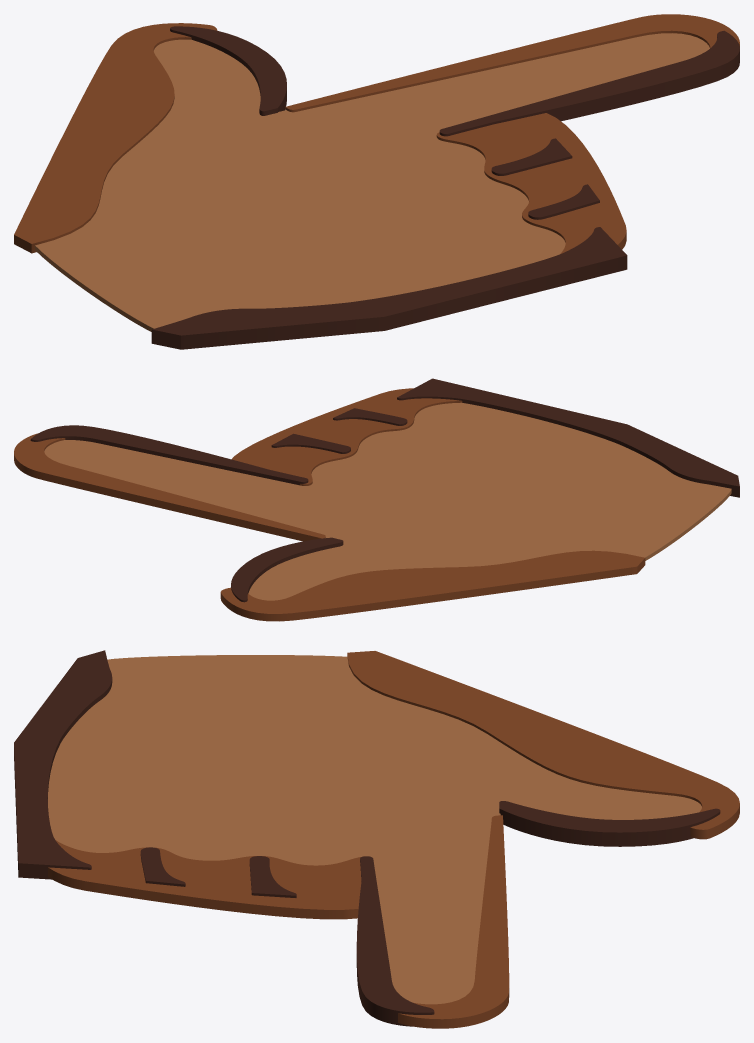
The model's file is emoji_u1f449_1f3fe.glb.
3 views of the same model, one above another, from view 1: azimuth 30°, elevation 25°; view 2: azimuth 150°, elevation 25°; view 3: azimuth 270°, elevation 25° (orthographic). The views are drawn at different scales.
Parts seen in each view (by area): view 1: emoji_u1f449_1f3fe; view 2: emoji_u1f449_1f3fe; view 3: emoji_u1f449_1f3fe.
Part boxes in pixels (<box>): emoji_u1f449_1f3fe: <box>14,14,739,349</box>; emoji_u1f449_1f3fe: <box>14,378,739,621</box>; emoji_u1f449_1f3fe: <box>14,650,739,1028</box>.
Bounding box in the file's own units: 0.0331 × 0.0006 × 0.0276.
